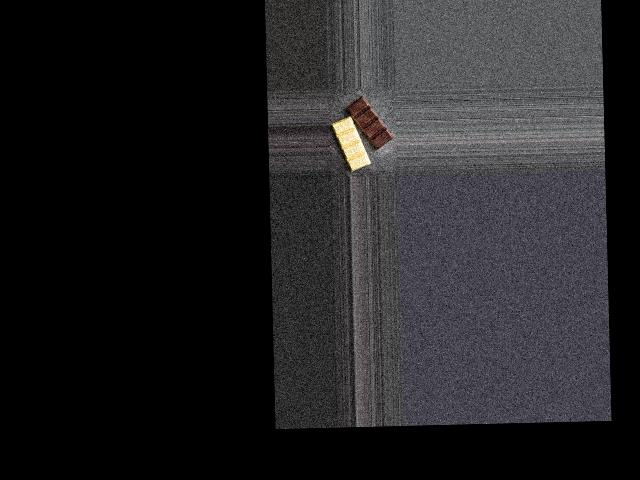chocolate: (331, 95, 392, 175)
